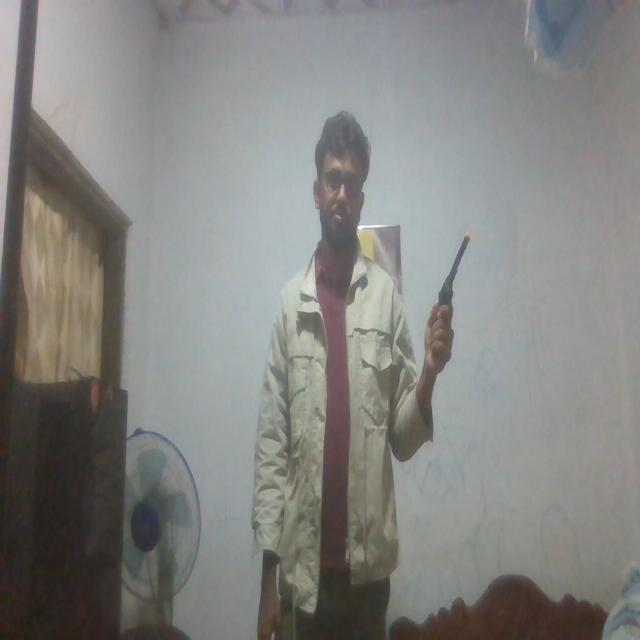Gun_Holder: (420, 233, 472, 366)
Jacket_Wearer: (251, 254, 435, 582)
Person: (249, 106, 457, 640)
